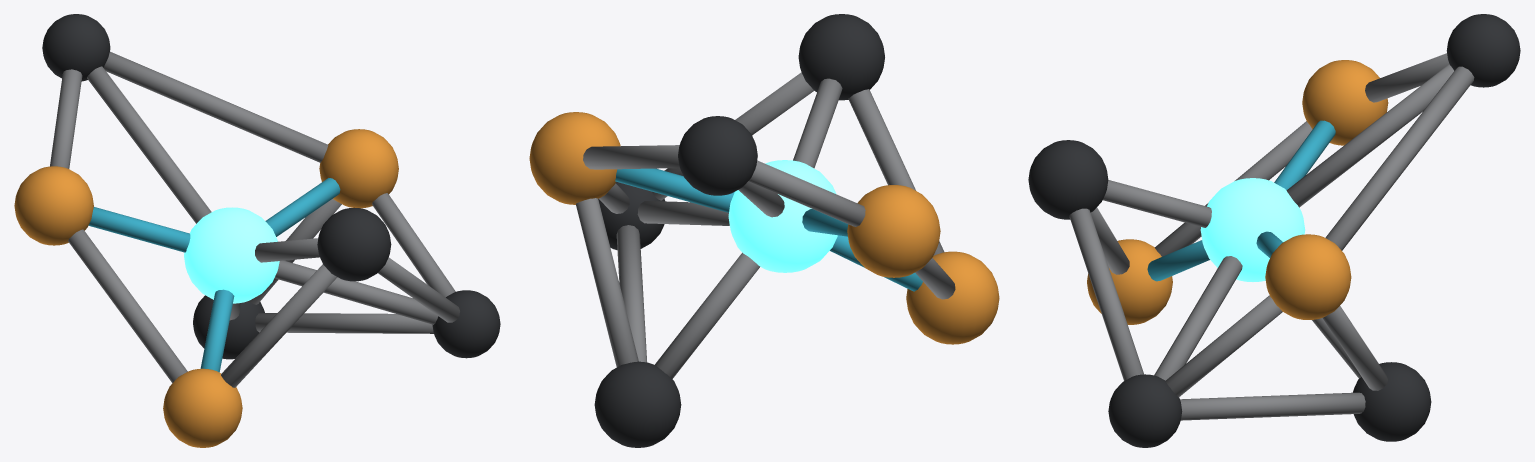
The model's file is graph.glb.
The picture shows the model from 3 angles, left to right: view 1: azimuth 30°, elevation 25°; view 2: azimuth 150°, elevation 25°; view 3: azimuth 270°, elevation 25°; orthographic projection. The views are drawn at different scales.
Parts seen in each view (by area): view 1: Node0, Node5, Node2, Edge1_7, Node1, Node3, Edge0_7, Edge2_5, Node7, Node6, Edge3_5, Edge4_6 (+10 smaller); view 2: Node2, Node0, Node1, Node4, Node5, Node3, Node7, Edge1_4, Edge0_4, Edge2_7, Edge4_6, Edge3_5 (+11 smaller); view 3: Node0, Node1, Node3, Edge1_7, Node2, Node4, Node6, Edge0_7, Node7, Edge4_6, Edge3_6, Node5 (+10 smaller).
Part boxes in pixels (x1,y1,x2,y2): Node0: (184, 207, 279, 303); Node5: (163, 368, 242, 447); Node2: (14, 166, 93, 245); Edge1_7: (103, 51, 328, 162); Node1: (319, 129, 398, 208); Node3: (317, 207, 391, 281); Edge0_7: (87, 66, 211, 223); Edge2_5: (68, 229, 187, 382); Node7: (42, 14, 110, 81); Node6: (432, 290, 500, 358); Edge3_5: (221, 264, 337, 387); Edge4_6: (255, 313, 433, 333); Node2: (847, 185, 940, 277); Node0: (728, 160, 837, 272); Node1: (529, 112, 620, 204); Node4: (594, 361, 681, 447); Node5: (906, 251, 999, 344); Node3: (798, 14, 884, 100); Node7: (678, 116, 757, 195); Edge1_4: (576, 198, 638, 367); Edge0_4: (655, 252, 759, 378); Edge2_7: (748, 160, 865, 226); Edge4_6: (616, 225, 647, 362); Edge3_5: (848, 89, 944, 255); Node0: (1200, 178, 1305, 281); Node1: (1265, 234, 1351, 319); Node3: (1028, 140, 1108, 219); Edge1_7: (1325, 66, 1474, 250); Node2: (1302, 60, 1388, 145); Node4: (1353, 362, 1431, 441); Node6: (1108, 374, 1182, 447); Edge0_7: (1286, 64, 1453, 207); Node7: (1446, 14, 1520, 87); Edge4_6: (1180, 392, 1365, 420); Edge3_6: (1069, 208, 1144, 380); Node5: (1087, 239, 1172, 324).
Size of the model in its own units: 1.56 by 1.3 by 1.6.
